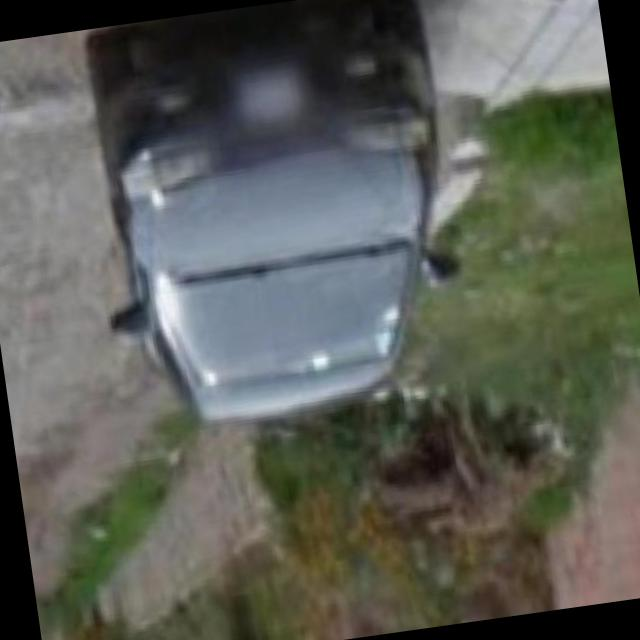car: (74, 1, 478, 440)
